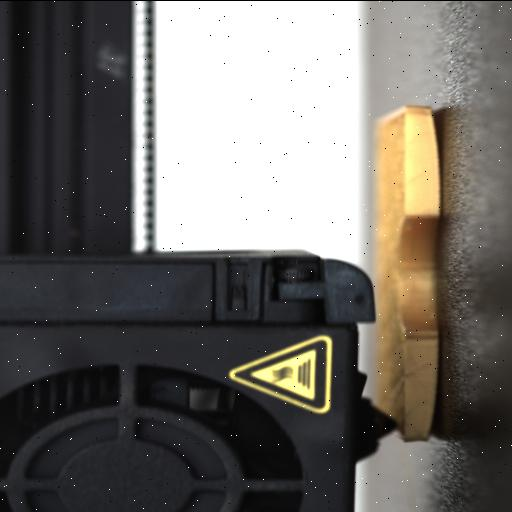warp: (418, 337, 444, 443), (424, 98, 446, 221)
